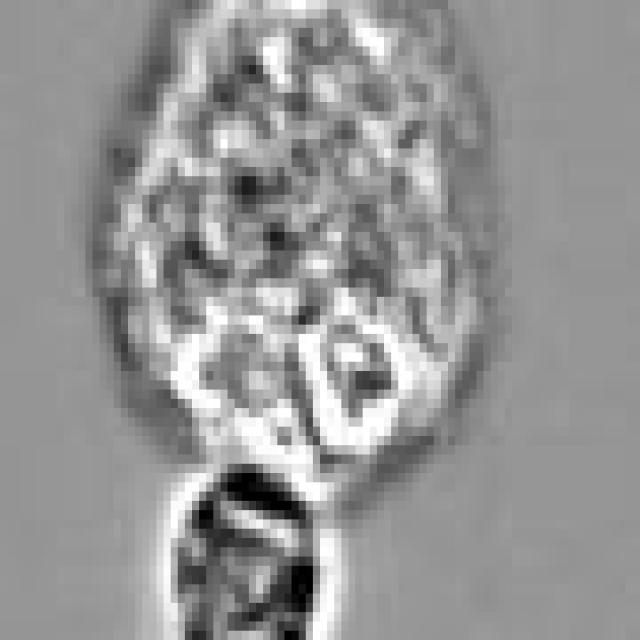Cancer Cell: (92, 9, 498, 529)
WBC: (164, 464, 320, 640)
